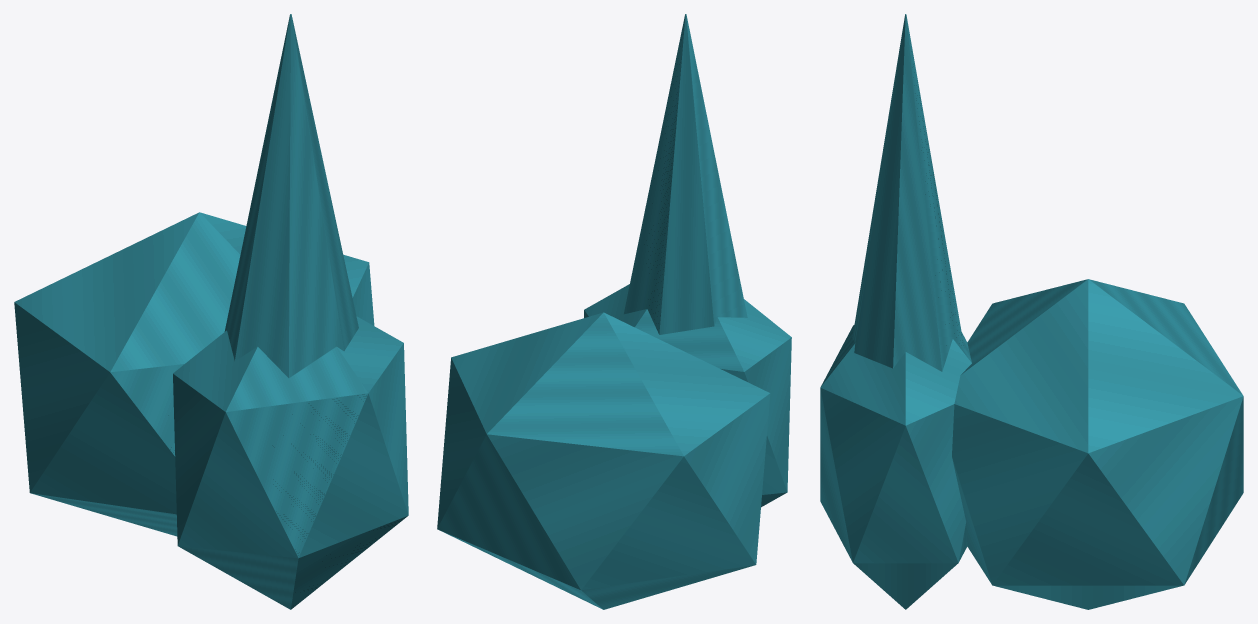
The model's file is rain_strike.glb.
3 views of the same model, side by side, from view 1: azimuth 30°, elevation 25°; view 2: azimuth 150°, elevation 25°; view 3: azimuth 270°, elevation 25° (orthographic). The views are drawn at different scales.
Visible parts, largest first — view 1: gear_rain_strike; view 2: gear_rain_strike; view 3: gear_rain_strike.
Boxes of the visible parts, bbox=[...] form: gear_rain_strike: bbox=[14, 14, 408, 609]; gear_rain_strike: bbox=[437, 14, 791, 609]; gear_rain_strike: bbox=[820, 14, 1243, 609].
Size of the model in its own units: 0.2147 by 0.36 by 0.2318.
Materials: 1 (1 with a texture image).
